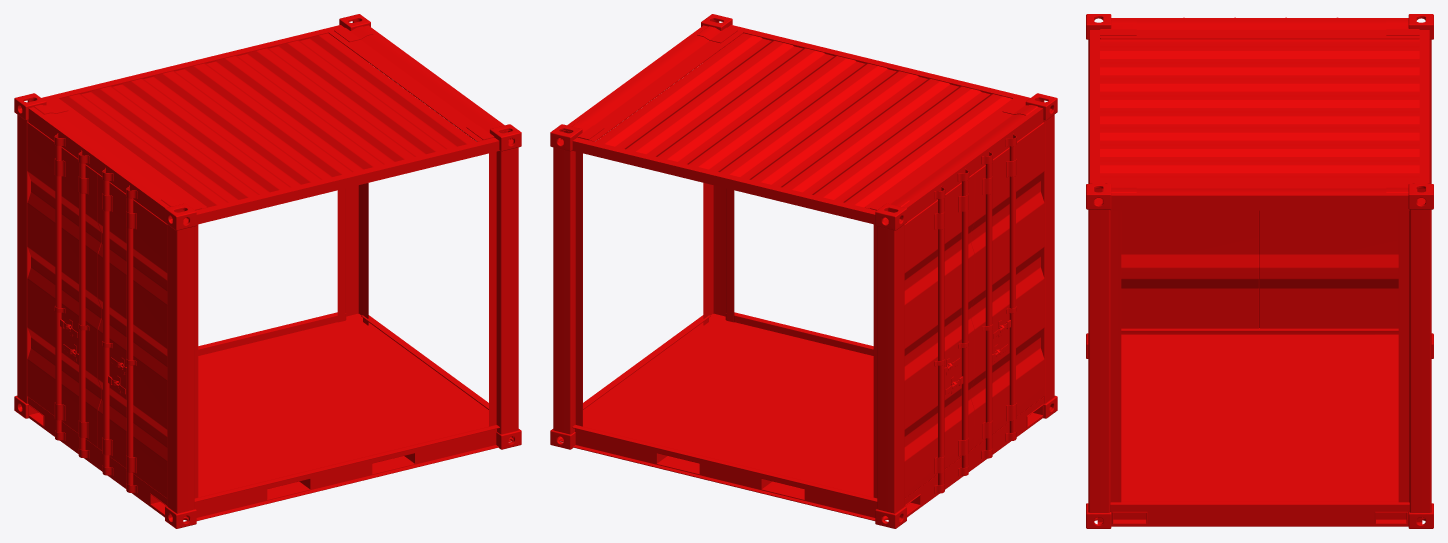
The model's file is container-shell.glb.
3 renders of one model, left to right at view 1: azimuth 30°, elevation 25°; view 2: azimuth 150°, elevation 25°; view 3: azimuth 270°, elevation 25°, orthographic. The views are drawn at different scales.
Bounding box in the file's own units: 3.03 × 2.59 × 2.44.
